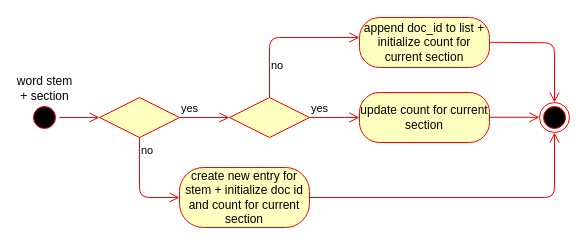
Image size: 587x245. Some labels were removed from this diagram. The centre of each missing label's shape, as x and y in pixels:
doc_id in entry: the point at 269,117
stem in db: the point at 139,117
